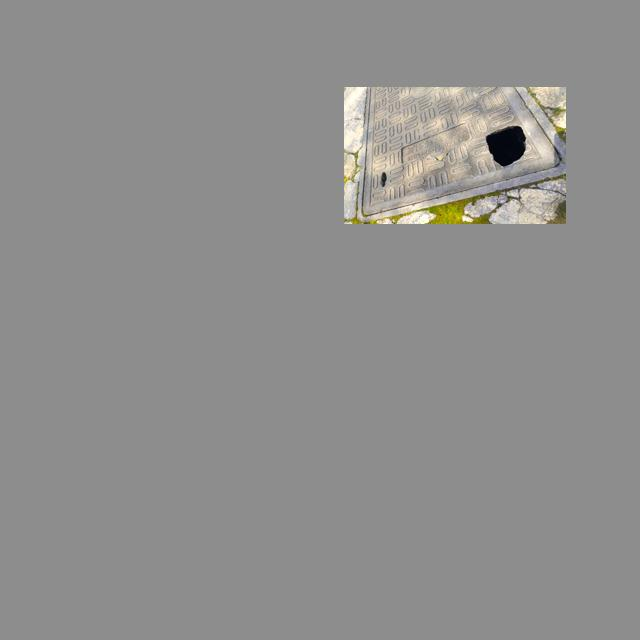broke: (357, 91, 537, 206)
